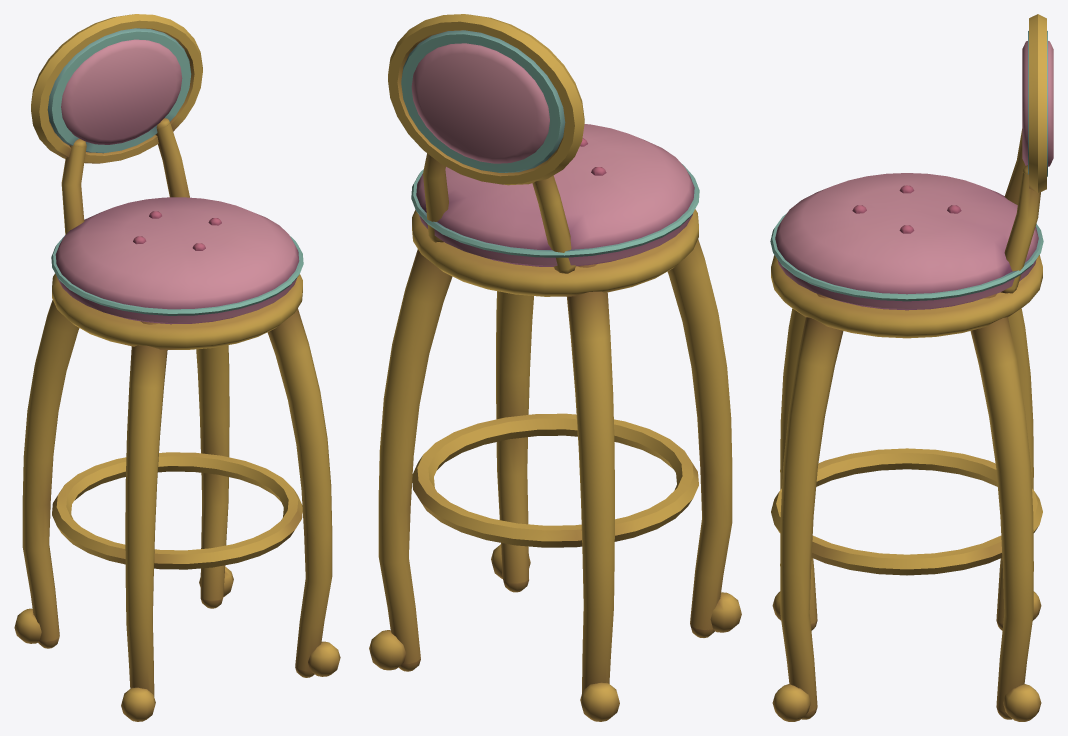
File: stool_patisserie.glb
3 renders of one model, left to right at view 1: azimuth 30°, elevation 25°; view 2: azimuth 150°, elevation 25°; view 3: azimuth 270°, elevation 25°, orthographic. The views are drawn at different scales.
Parts seen in each view (by area): view 1: stool_patisserie; view 2: stool_patisserie; view 3: stool_patisserie.
Part boxes in pixels (bbox=[...]): stool_patisserie: bbox=[14, 14, 340, 721]; stool_patisserie: bbox=[369, 14, 741, 721]; stool_patisserie: bbox=[770, 14, 1053, 721].
Size of the model in its own units: 0.5219 by 1.37 by 0.541.
